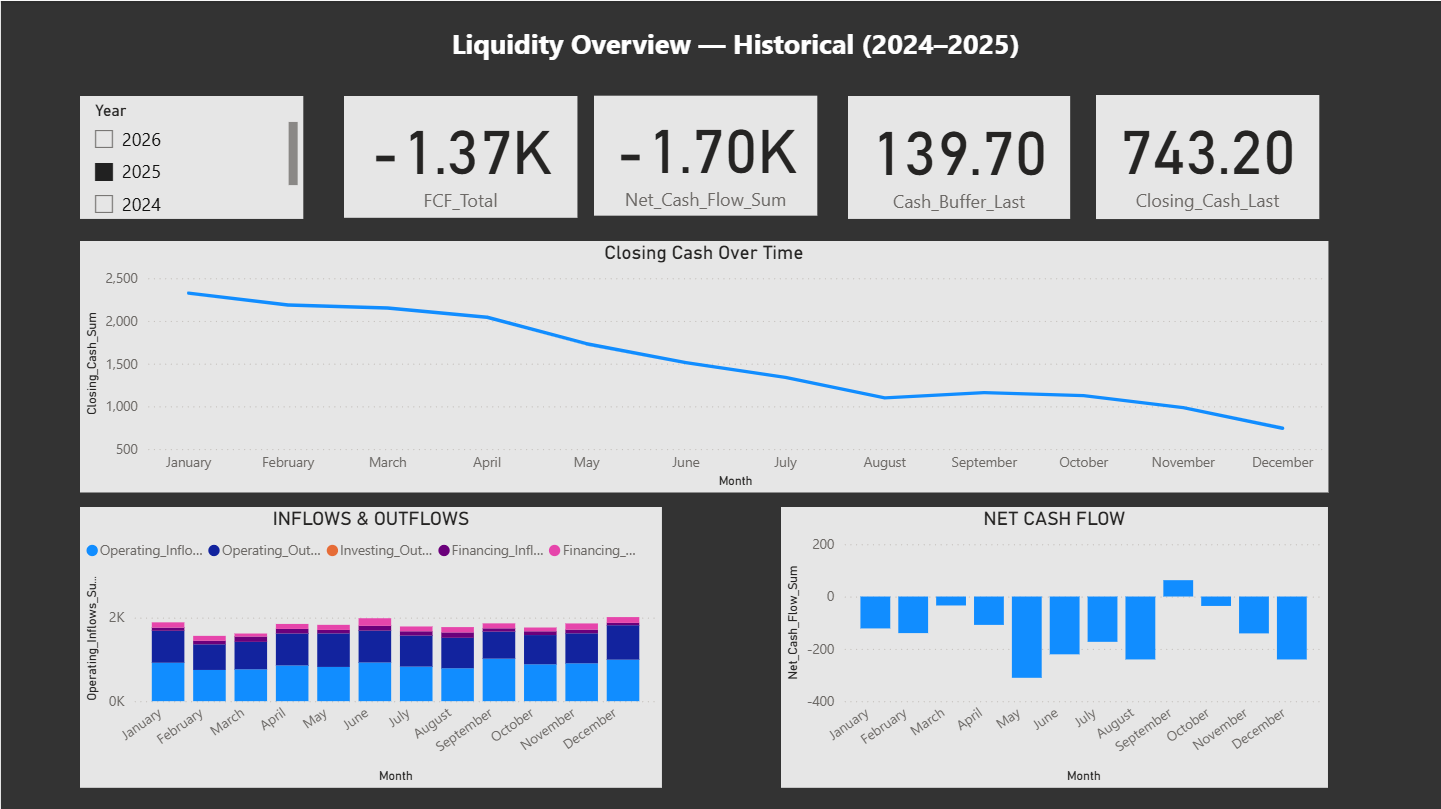

Layout of this report page (visuals, bound fields, positions):
{"tool":"powerbi","page":{"name":"Liquidity Overview","canvas":[1280,720],"ordinal":0},"visuals":[{"type":"slicer","fields":{"Values":["Calendar.Date.Variation.Date Hierarchy.Year"]},"box":[70,84.2,197.7,109.1],"z":0},{"type":"card","fields":{"Values":["Transactions_Cashflows.Closing_Cash_Last"]},"box":[970.9,83.3,197.7,110],"z":1000},{"type":"card","fields":{"Values":["Transactions_Cashflows.Net_Cash_Flow_Sum"]},"box":[525.7,83.3,197.9,107.5],"z":2000},{"type":"card","fields":{"Values":["Transactions_Cashflows.FCF_Total"]},"box":[304.1,84.2,206.6,108.2],"z":3000},{"type":"card","fields":{"Values":["Transactions_Cashflows.Cash_Buffer_Last"]},"box":[751.3,84.2,197,109.3],"z":4000},{"type":"lineChart","title":"Closing Cash Over Time","fields":{"Category":["Calendar.Date.Variation.Date Hierarchy.Month"],"Y":["Transactions_Cashflows.Closing_Cash_Sum"]},"box":[70,212.8,1106.6,223.4],"z":5000},{"type":"columnChart","title":"INFLOWS & OUTFLOWS ","fields":{"Category":["Calendar.Date.Variation.Date Hierarchy.Month"],"Y":["Transactions_Cashflows.Operating_Inflows_Sum","Transactions_Cashflows.Operating_Outflows_Sum","Transactions_Cashflows.Investing_Outflows_Sum","Transactions_Cashflows.Financing_Inflows_Sum","Transactions_Cashflows.Financing_Outflows_Sum"]},"box":[70,448.7,516.1,249.2],"z":6000},{"type":"columnChart","title":"NET CASH FLOW","fields":{"Category":["Calendar.Date.Variation.Date Hierarchy.Month"],"Y":["Transactions_Cashflows.Net_Cash_Flow_Sum"]},"box":[691.6,448.7,485,249.2],"z":7000},{"type":"textbox","box":[394.6,16,524.9,68.3],"z":8000}]}

Visuals, with their boxes in screenshot pixels (x1, y1, x2, y2), scaled from the page's 1280x720 canvas onto the 1441x809 screenshot:
slicer - Calendar.Date.Variation.Date Hierarchy.Year: 79 95 301 217
card - Transactions_Cashflows.Closing_Cash_Last: 1093 94 1316 217
card - Transactions_Cashflows.Net_Cash_Flow_Sum: 592 94 815 214
card - Transactions_Cashflows.FCF_Total: 342 95 575 216
card - Transactions_Cashflows.Cash_Buffer_Last: 846 95 1068 217
"Closing Cash Over Time" lineChart: 79 239 1325 490
"INFLOWS & OUTFLOWS " columnChart: 79 504 660 784
"NET CASH FLOW" columnChart: 779 504 1325 784
textbox: 444 18 1035 95
